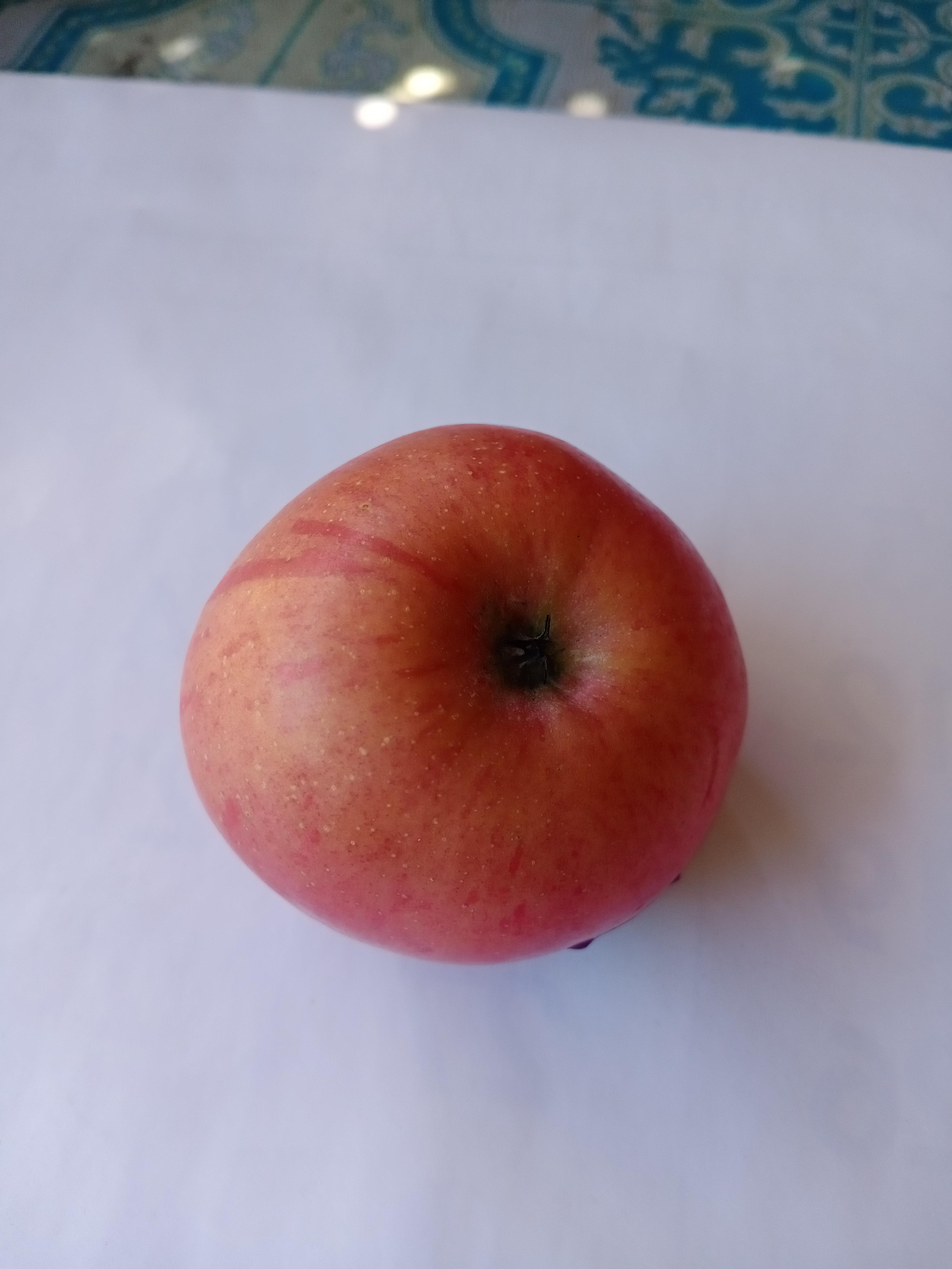Apple Ripe: (163, 375, 777, 999)
